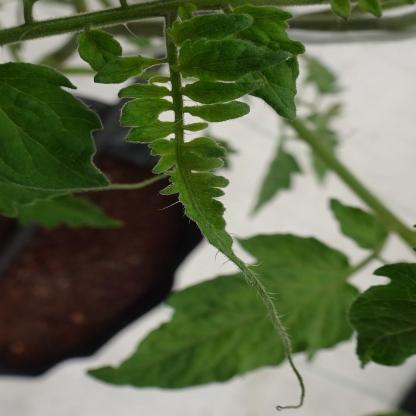T_L_R: (1, 64, 109, 191), (180, 40, 292, 82), (78, 31, 123, 73)
